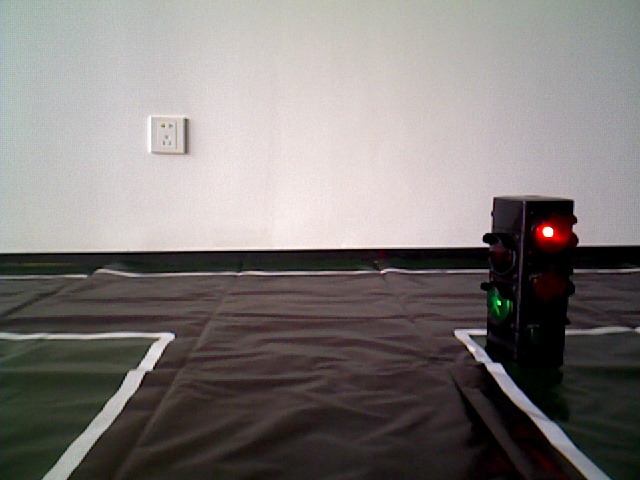red: (486, 194, 570, 367)
